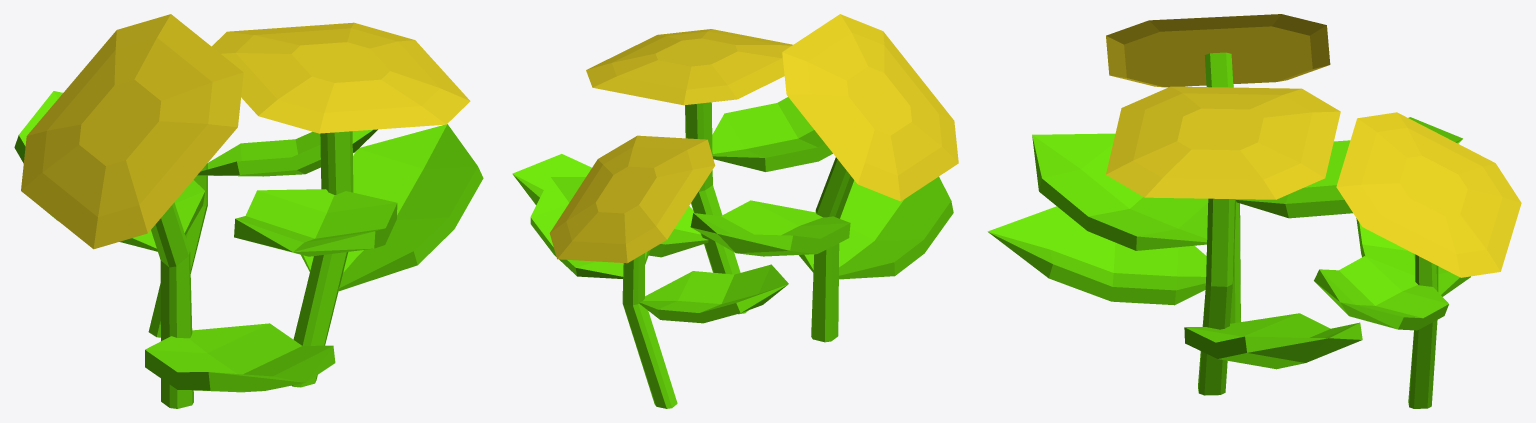
The model's file is Dandelion_1.fbx.
3 renders of one model, left to right at view 1: azimuth 30°, elevation 25°; view 2: azimuth 150°, elevation 25°; view 3: azimuth 270°, elevation 25°, orthographic. The views are drawn at different scales.
Parts seen in each view (by area): view 1: Dandelion; view 2: Dandelion; view 3: Dandelion.
Part boxes in pixels (x1,y1,x2,y2): Dandelion: (14, 14, 483, 408); Dandelion: (512, 14, 958, 408); Dandelion: (987, 14, 1521, 408).
Size of the model in its own units: 22.01 by 18.2 by 24.47.
